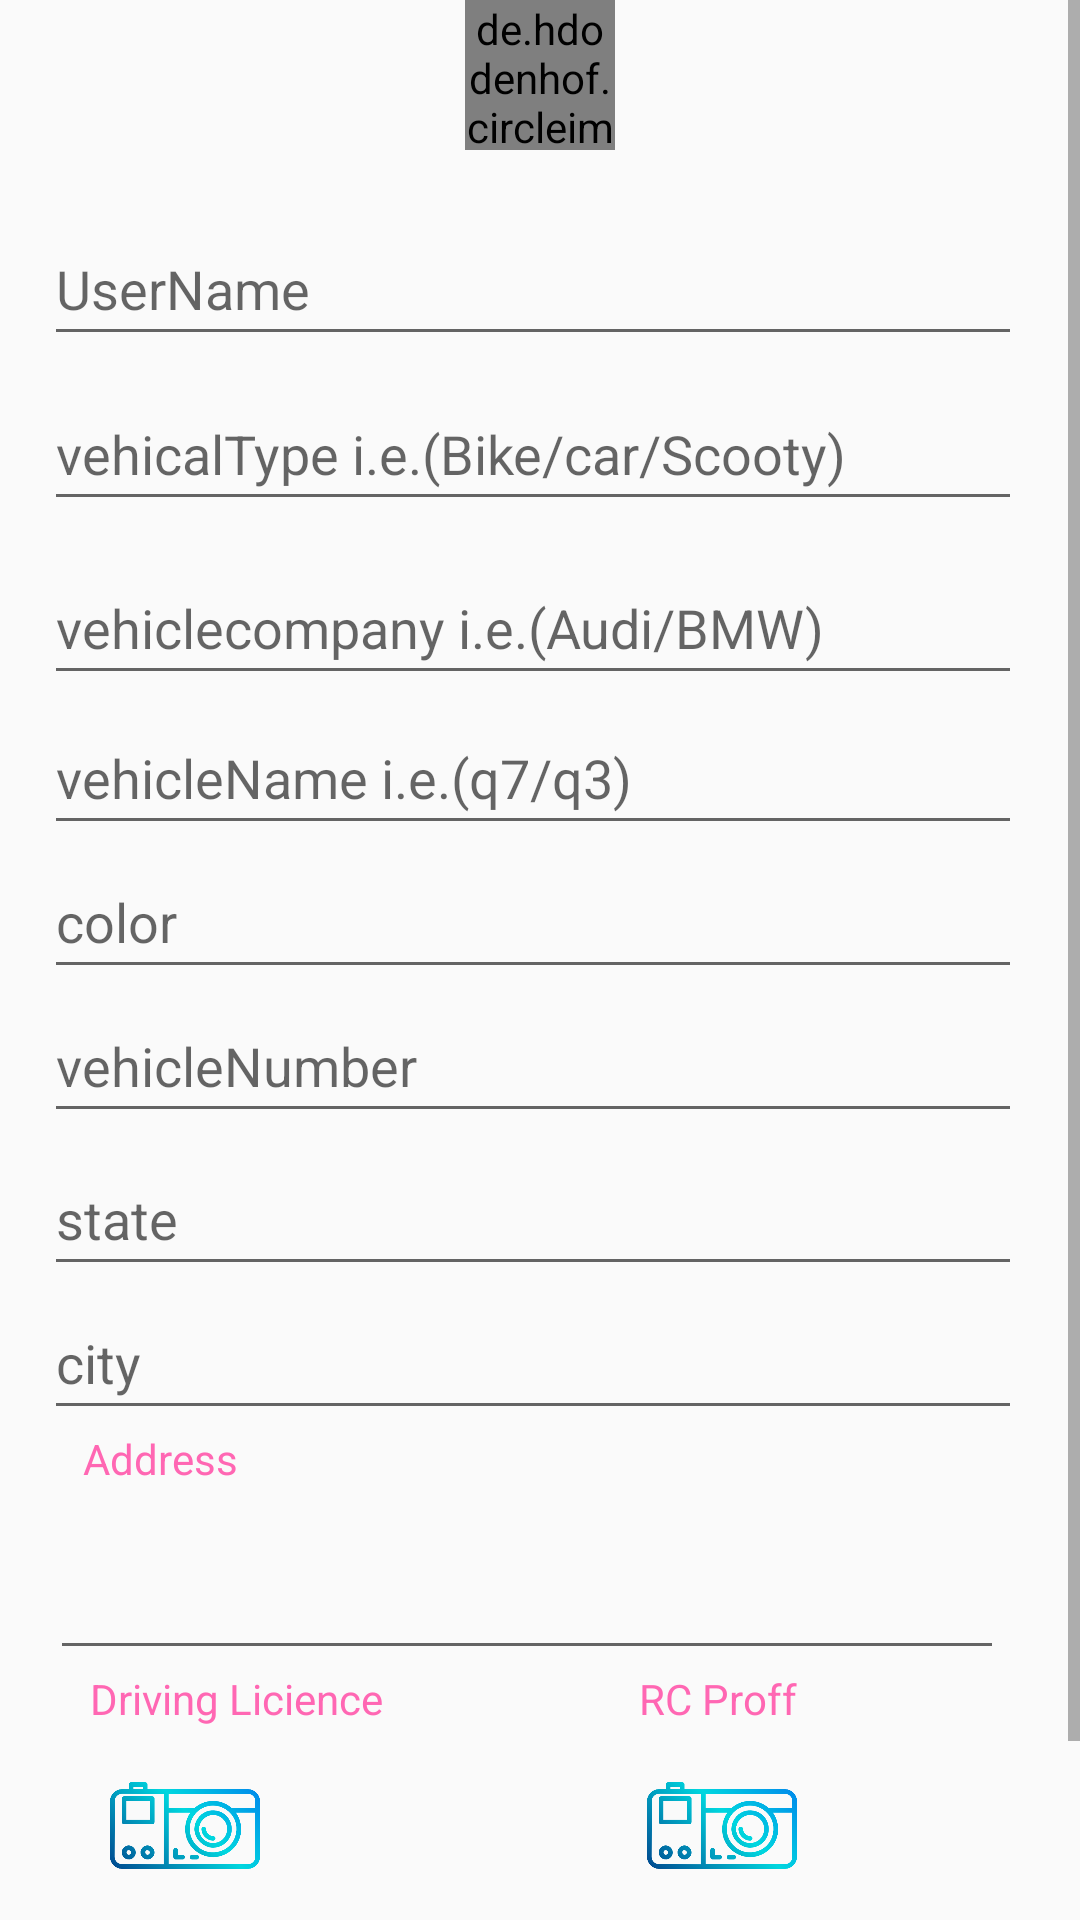

Screen size 1080*1920. Icon name, then its center in pixels as (x,y):
photocamera: (185,1825), (722,1825)
